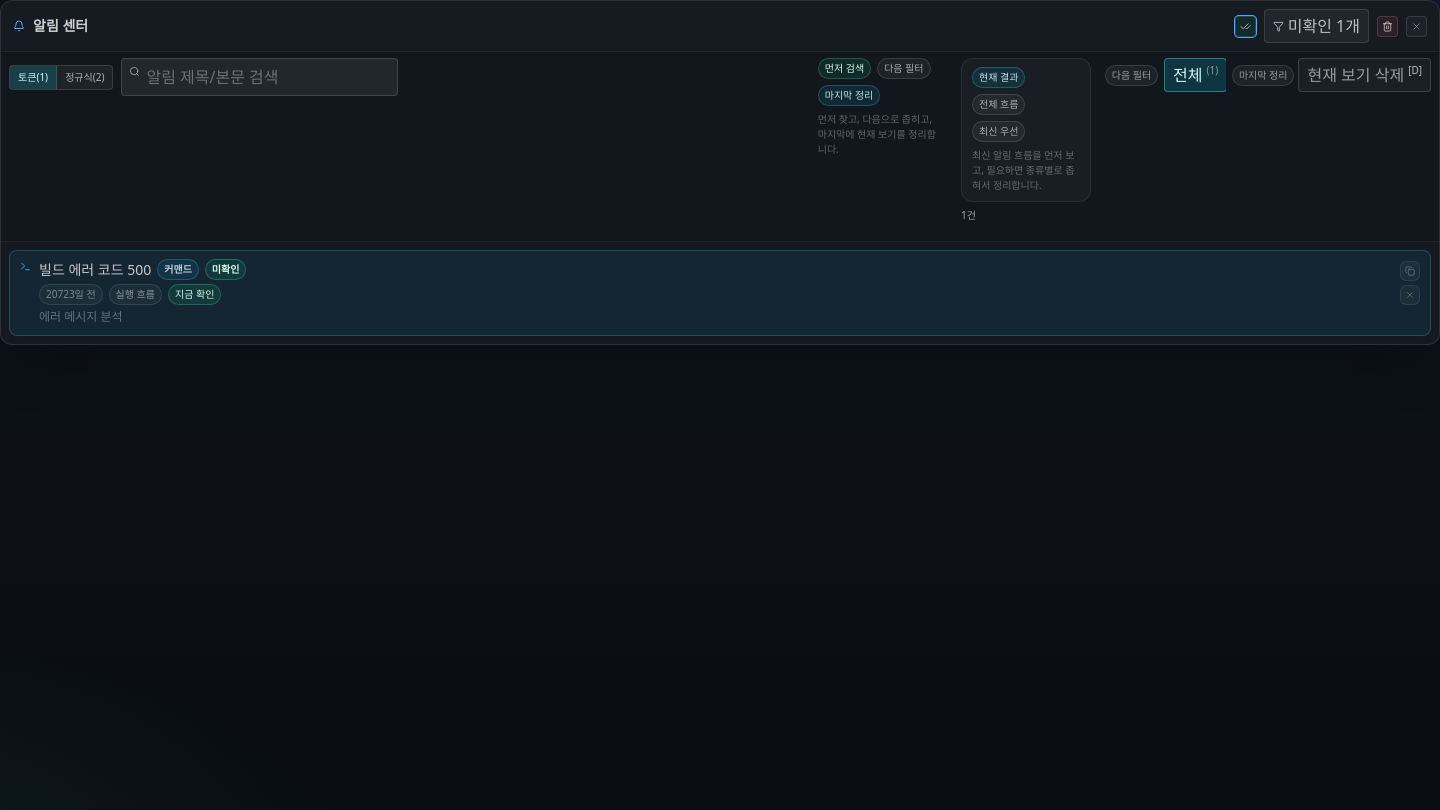
NotificationCenter › 검색 기록 전체 삭제 버튼으로 히스토리 스토리지를 비울 수 있다
Focus the field named "알림 검색" at coordinates (260, 77), box [122, 58, 398, 96]
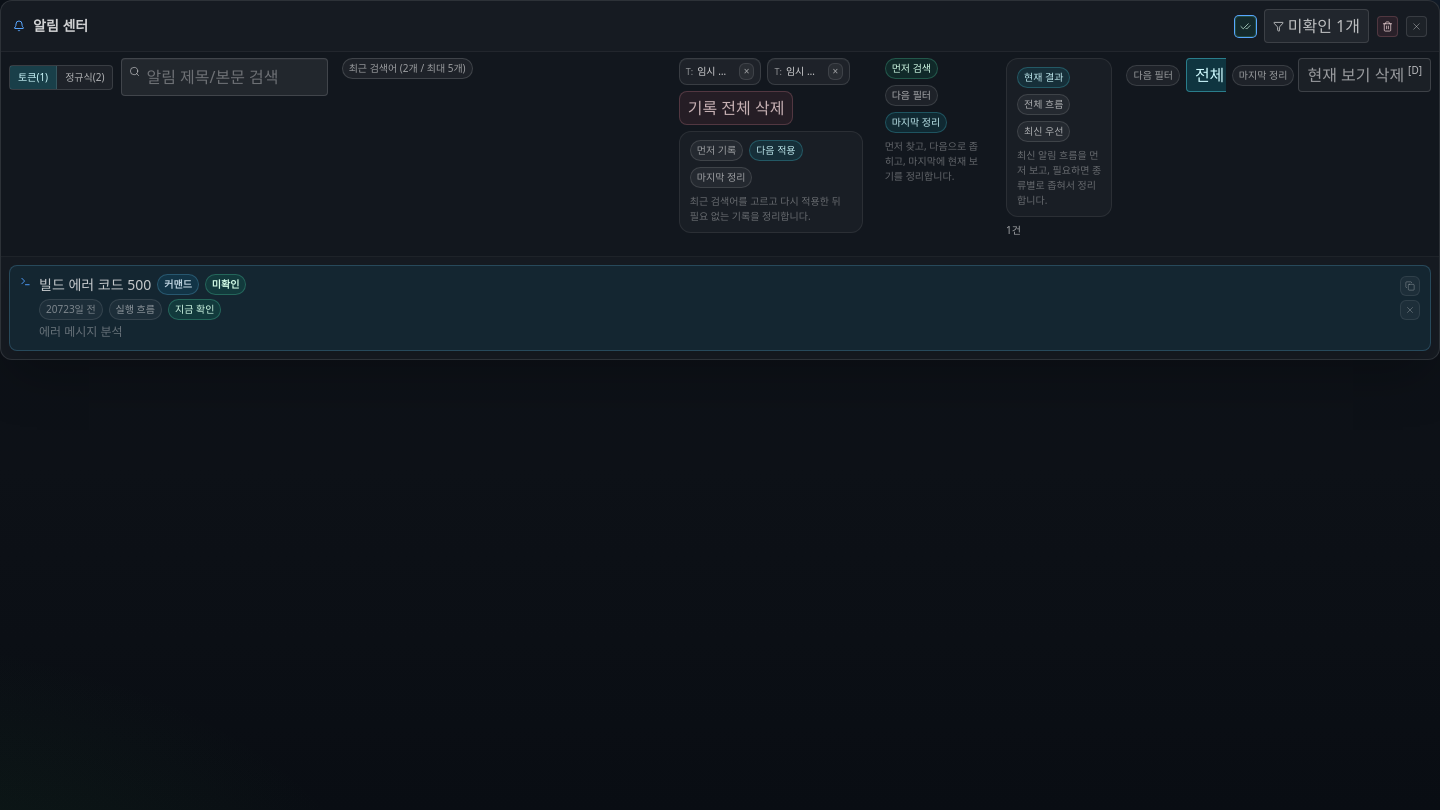
Result: the text "임시 검색어 1" is shown at [786, 64, 824, 79]
Result: the text "임시 검색어 2" is shown at [697, 64, 735, 79]
Click the button with aria-label "검색 기록 전체 삭제".
click(736, 108)  # box [679, 91, 793, 125]
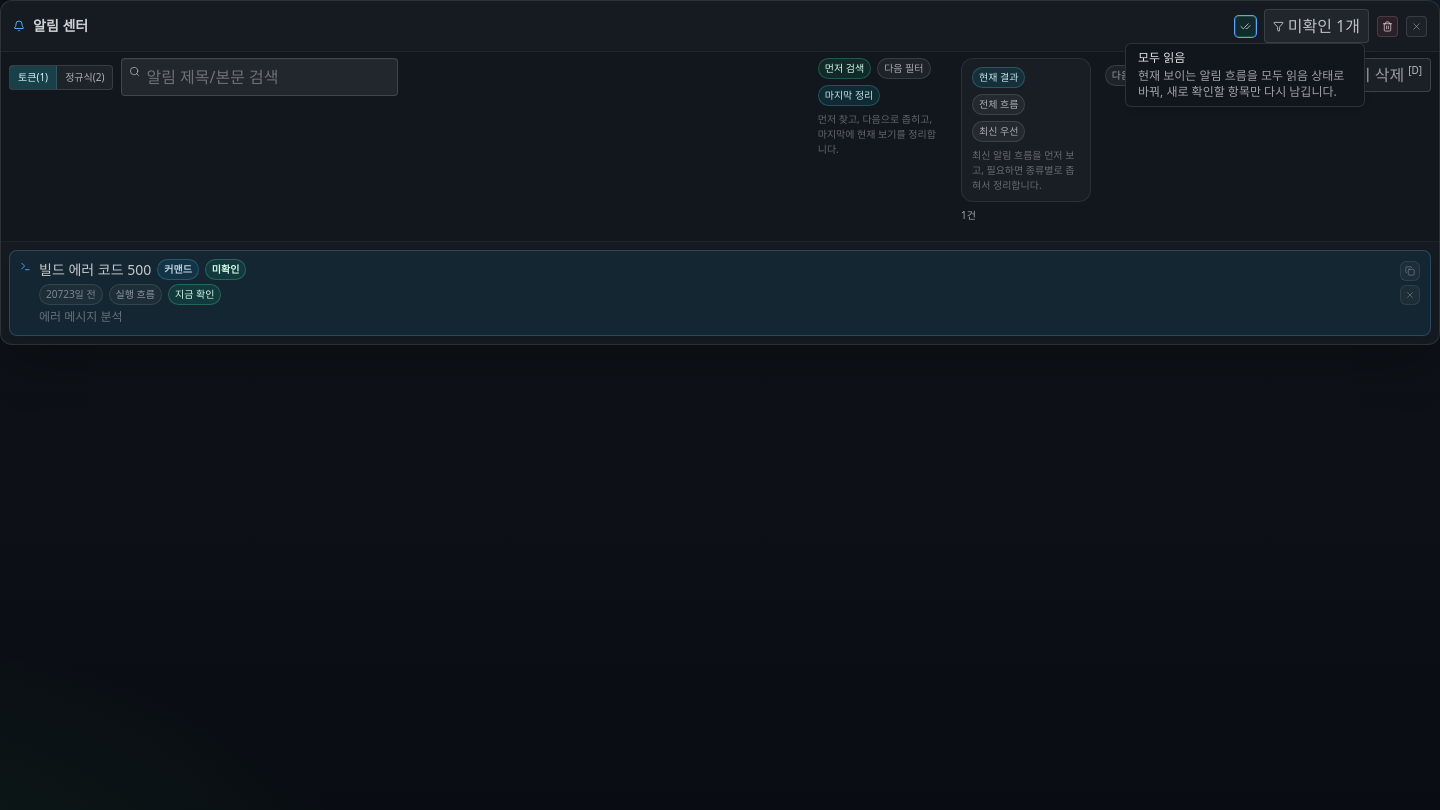
Result: the button "임시 검색어 1" is gone
Result: the button "임시 검색어 2" is gone
